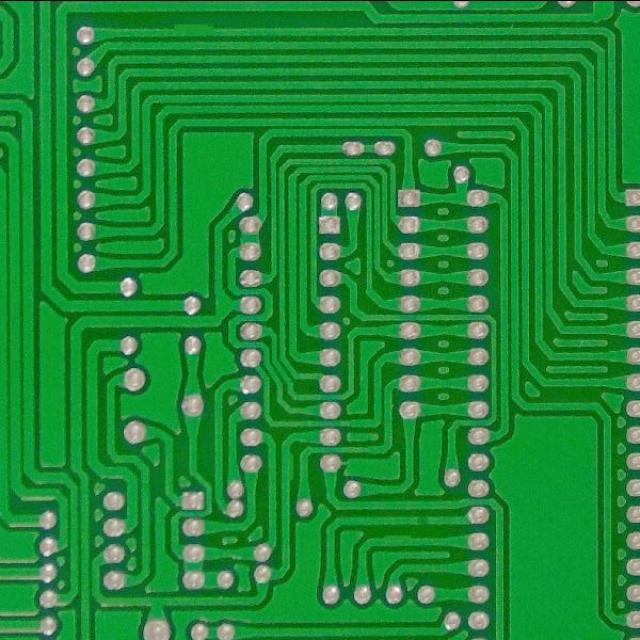Spur: (167, 18, 220, 41), (380, 529, 416, 550), (278, 450, 296, 487)
